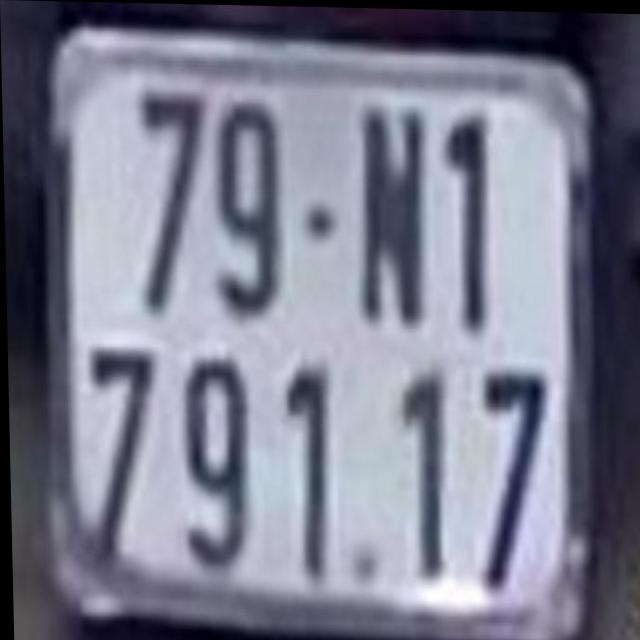1: (441, 108, 491, 334), (397, 361, 447, 578), (285, 361, 327, 581)
7: (83, 340, 160, 562), (479, 362, 549, 593), (143, 93, 207, 316)
9: (216, 102, 284, 314), (179, 353, 246, 561)
N: (355, 102, 424, 328)
